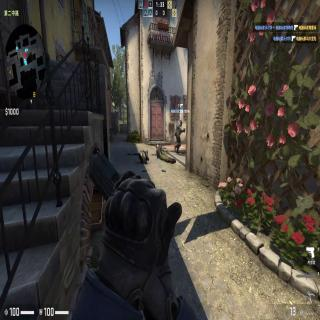CT-Body: (174, 119, 185, 154)
CT-Head: (179, 119, 182, 126)
